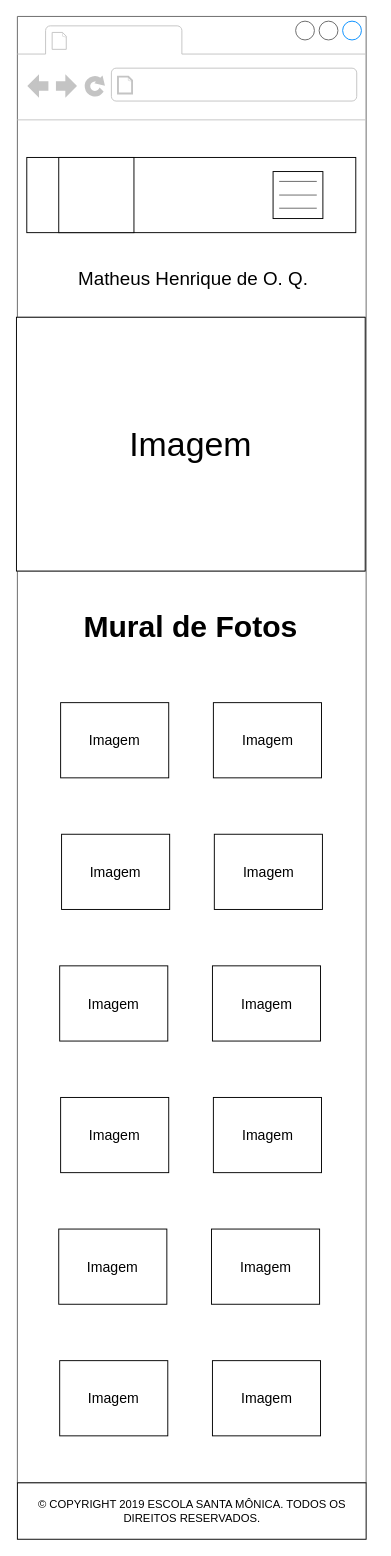
The diagram is 391 pixels wide and 1556 high, and some of its shapes have lost their labels. Here are the shapes that lost their labels. From the top down, the centre of each, then its label:
At pixel 125 39: "Page 1".
At pixel 257 84: "https://www.escolasantamonica.com".
At pixel 96 195: "Logo".
